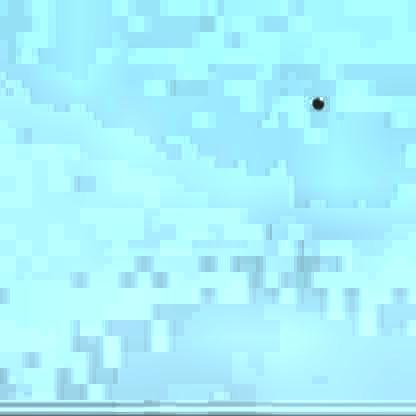golfball: (307, 95, 320, 106)
